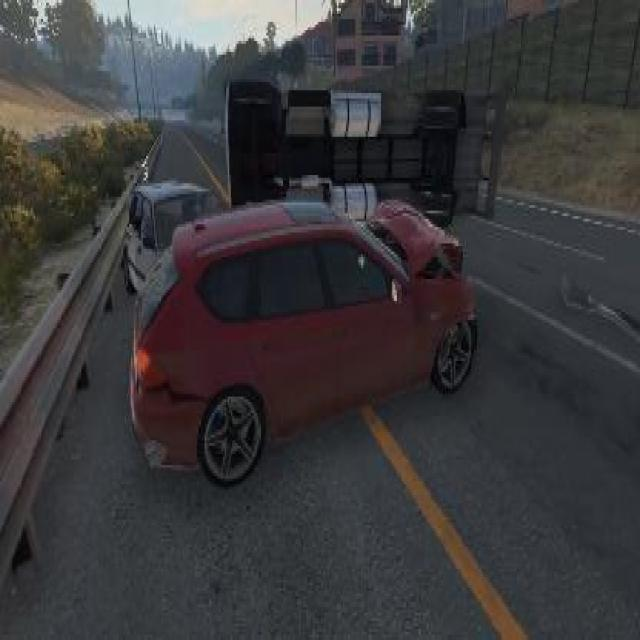accident: (121, 157, 479, 494), (215, 44, 468, 230)
